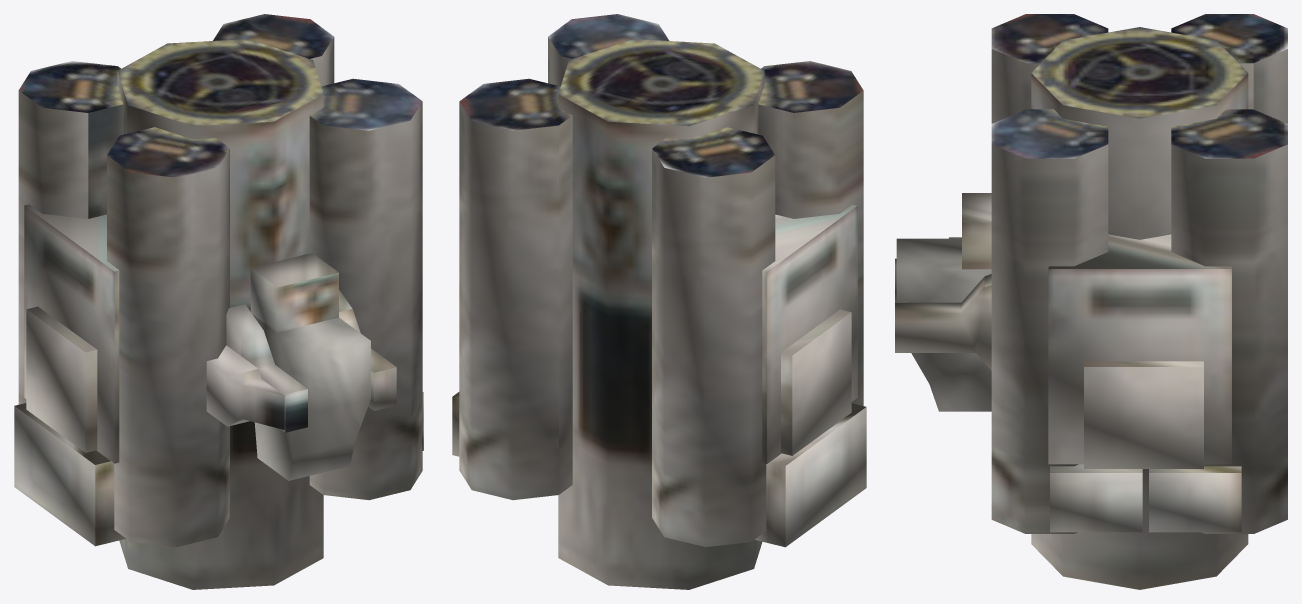
Rendered from canadarm2_link_7.dae.
3 views of the same model, side by side, from view 1: azimuth 30°, elevation 25°; view 2: azimuth 150°, elevation 25°; view 3: azimuth 270°, elevation 25° (orthographic).
Visible parts, largest first — view 1: 11 Canadarm2_08; view 2: 11 Canadarm2_08; view 3: 11 Canadarm2_08.
Part boxes in pixels (x1=…): 11 Canadarm2_08: x1=14, y1=14, x2=423, y2=589; 11 Canadarm2_08: x1=452, y1=14, x2=866, y2=589; 11 Canadarm2_08: x1=895, y1=14, x2=1287, y2=589.
Size of the model in its own units: 0.916 by 0.9362 by 1.24.
1 material, 1 textured.
